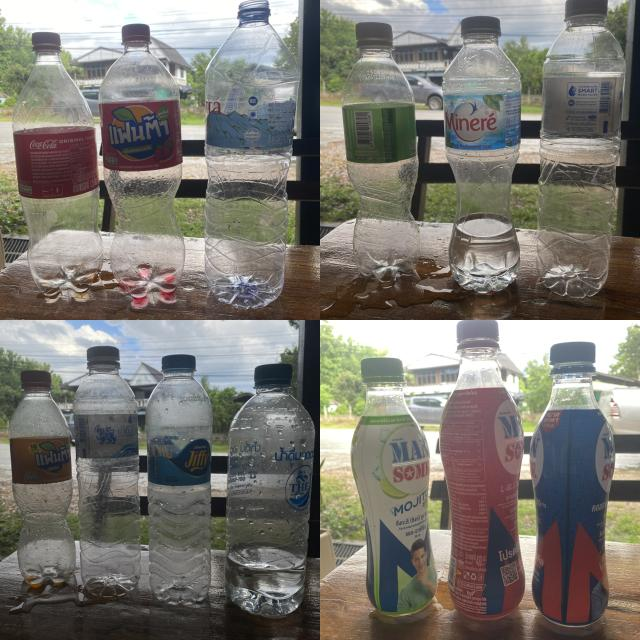plastik: (205, 0, 300, 309), (536, 0, 625, 299), (439, 320, 525, 620), (530, 342, 615, 628), (12, 32, 102, 296), (99, 24, 184, 298), (225, 364, 315, 616), (351, 358, 438, 615), (442, 16, 521, 292), (341, 22, 420, 282), (74, 346, 141, 598), (146, 355, 212, 605), (9, 370, 75, 586)
